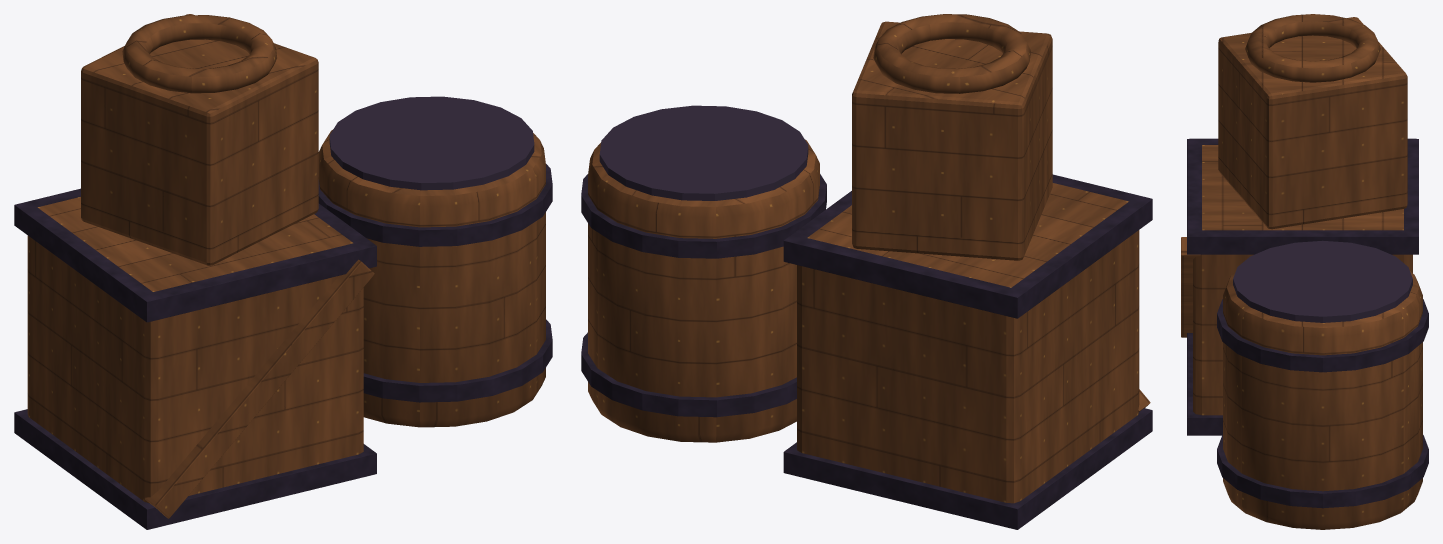
File: MO_CrateBarrel.fbx
3 views of the same model, side by side, from view 1: azimuth 30°, elevation 25°; view 2: azimuth 150°, elevation 25°; view 3: azimuth 270°, elevation 25° (orthographic). The views are drawn at different scales.
Visible parts, largest first — view 1: MO_CrateBarrel; view 2: MO_CrateBarrel; view 3: MO_CrateBarrel.
Boxes of the visible parts, x1,y1,x2,y2 form: MO_CrateBarrel: (14, 14, 552, 529); MO_CrateBarrel: (581, 14, 1152, 529); MO_CrateBarrel: (1181, 14, 1428, 529).
Bounding box in the file's own units: 2.36 × 1.95 × 1.24.
